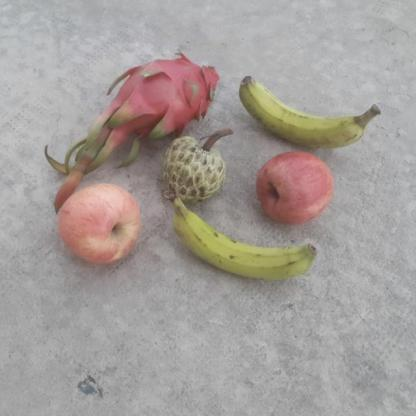annona: (155, 130, 227, 204)
apple: (56, 184, 138, 262), (250, 151, 336, 219)
banana: (165, 186, 321, 285), (233, 67, 386, 147)
pitaya: (113, 50, 222, 130)
